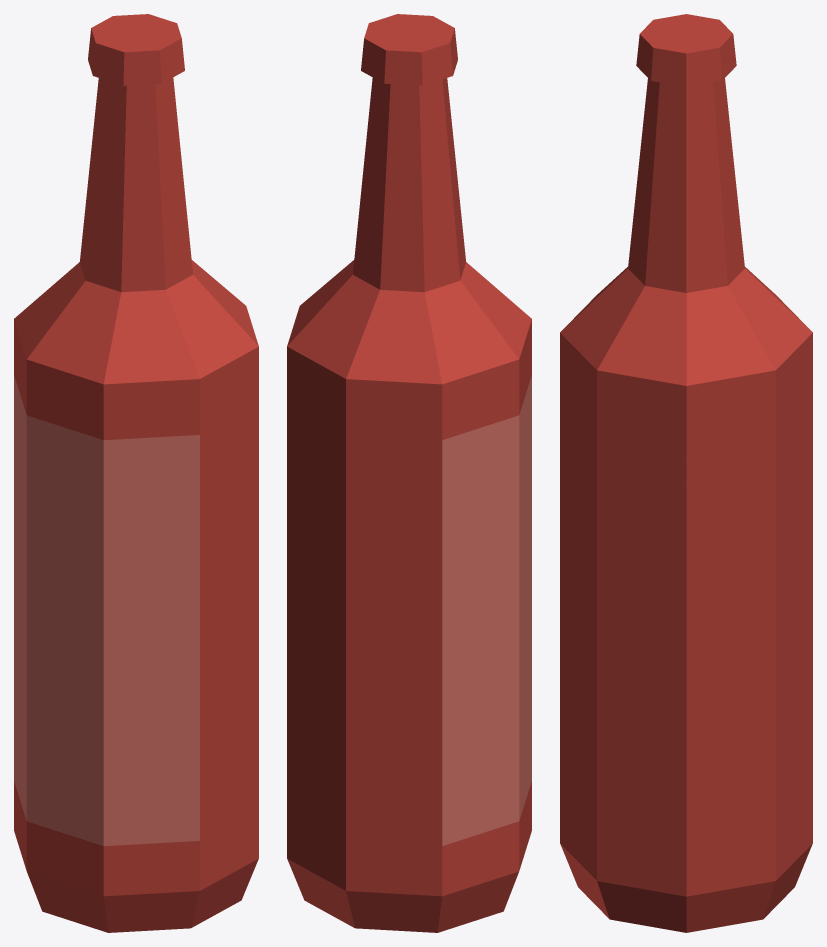
The model's file is Bottle_1_Red.fbx.
3 renders of one model, left to right at view 1: azimuth 30°, elevation 25°; view 2: azimuth 150°, elevation 25°; view 3: azimuth 270°, elevation 25°, orthographic.
Parts seen in each view (by area): view 1: Bottle_1_Red_Part_1, Bottle_1_Red_Part_2; view 2: Bottle_1_Red_Part_1, Bottle_1_Red_Part_2; view 3: Bottle_1_Red_Part_1.
Part boxes in pixels (<box>): Bottle_1_Red_Part_1: <box>14,14,258,932</box>; Bottle_1_Red_Part_2: <box>14,375,199,846</box>; Bottle_1_Red_Part_1: <box>287,14,531,932</box>; Bottle_1_Red_Part_2: <box>442,375,531,845</box>; Bottle_1_Red_Part_1: <box>560,14,812,932</box>.
Bounding box in the file's own units: 10.8 × 40.2 × 10.8.
